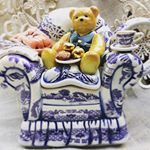cups: (114, 29, 145, 48)
